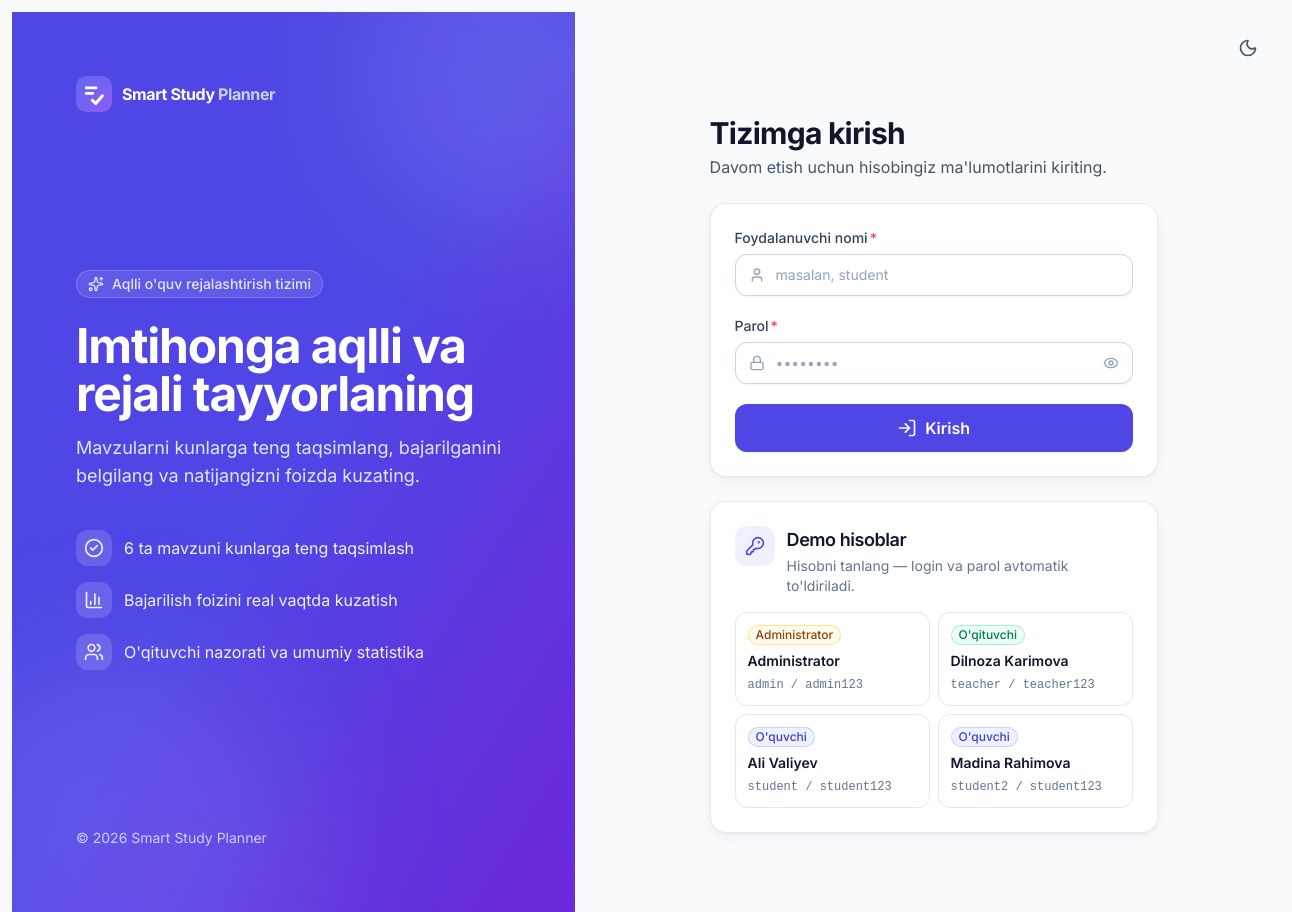
Test: LoginPage › logs in as student, stores the token and redirects to /
Step 1. Type "student" into the field labelled "Foydalanuvchi nomi*" → (934, 275), box [735,254,1133,296]
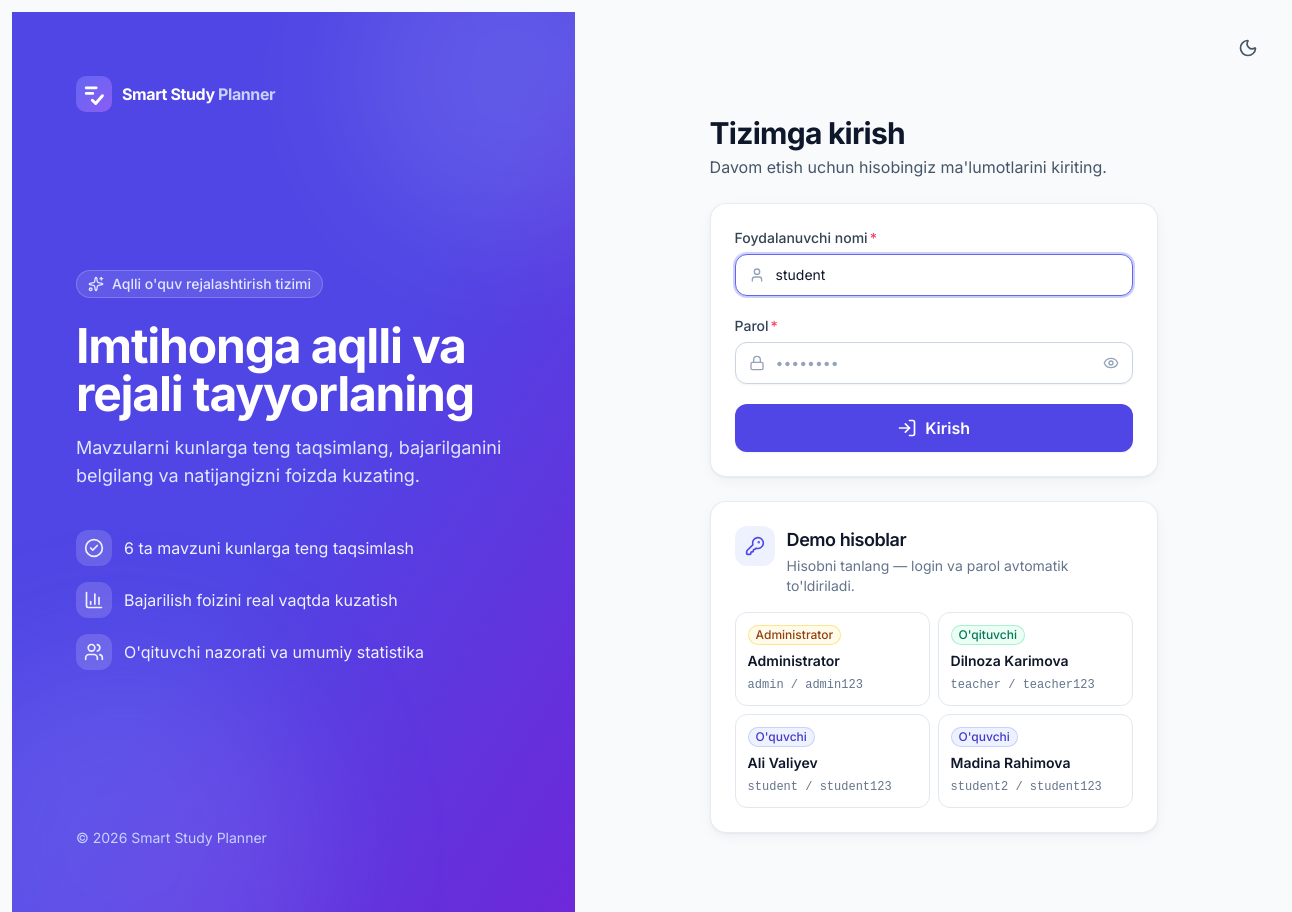
Step 2. Type "secret123" into the password field labelled "Parol*" → (934, 363), box [735,342,1133,384]
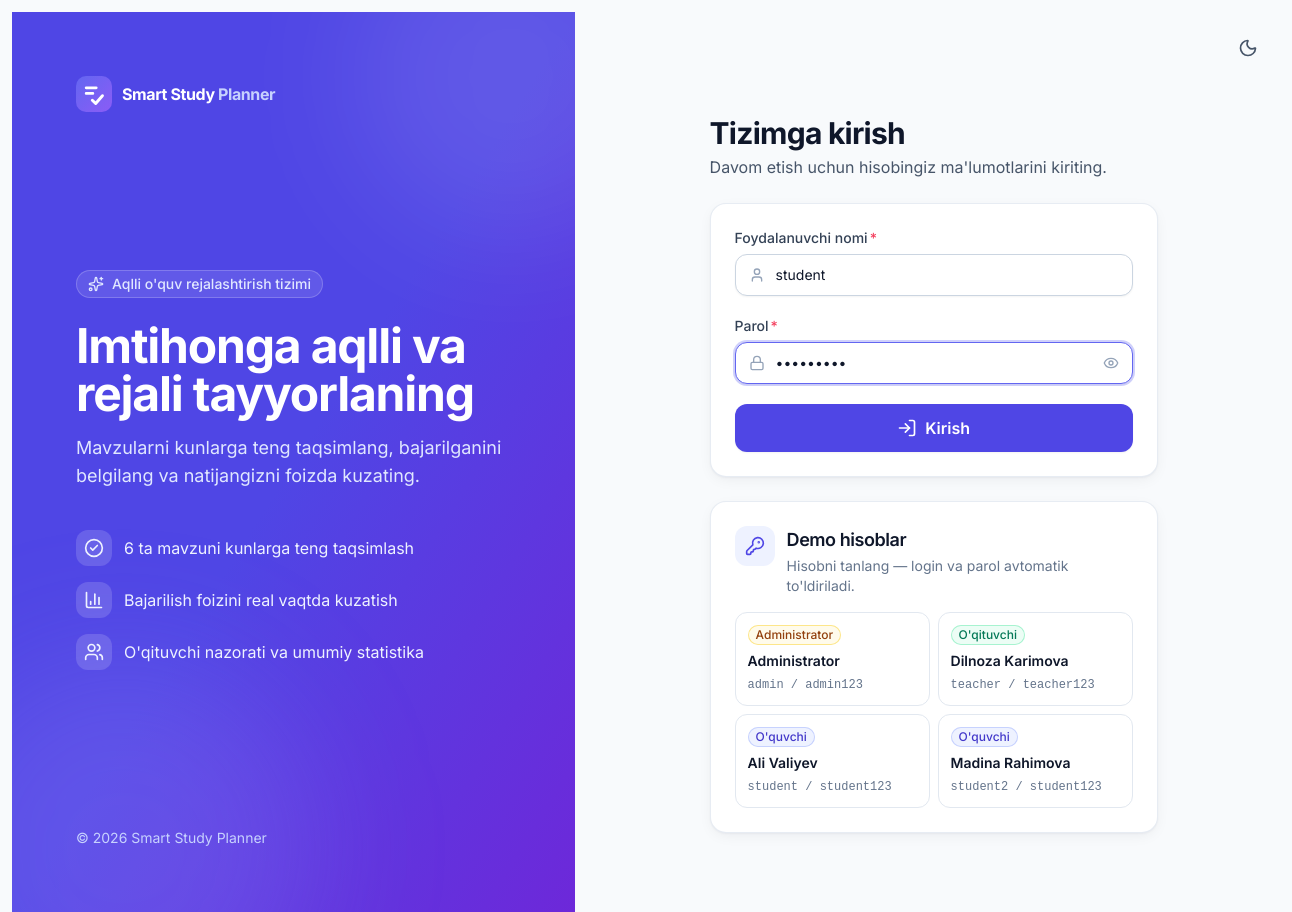
Step 3. Click the button "Kirish" → (934, 428), box [735,404,1133,452]
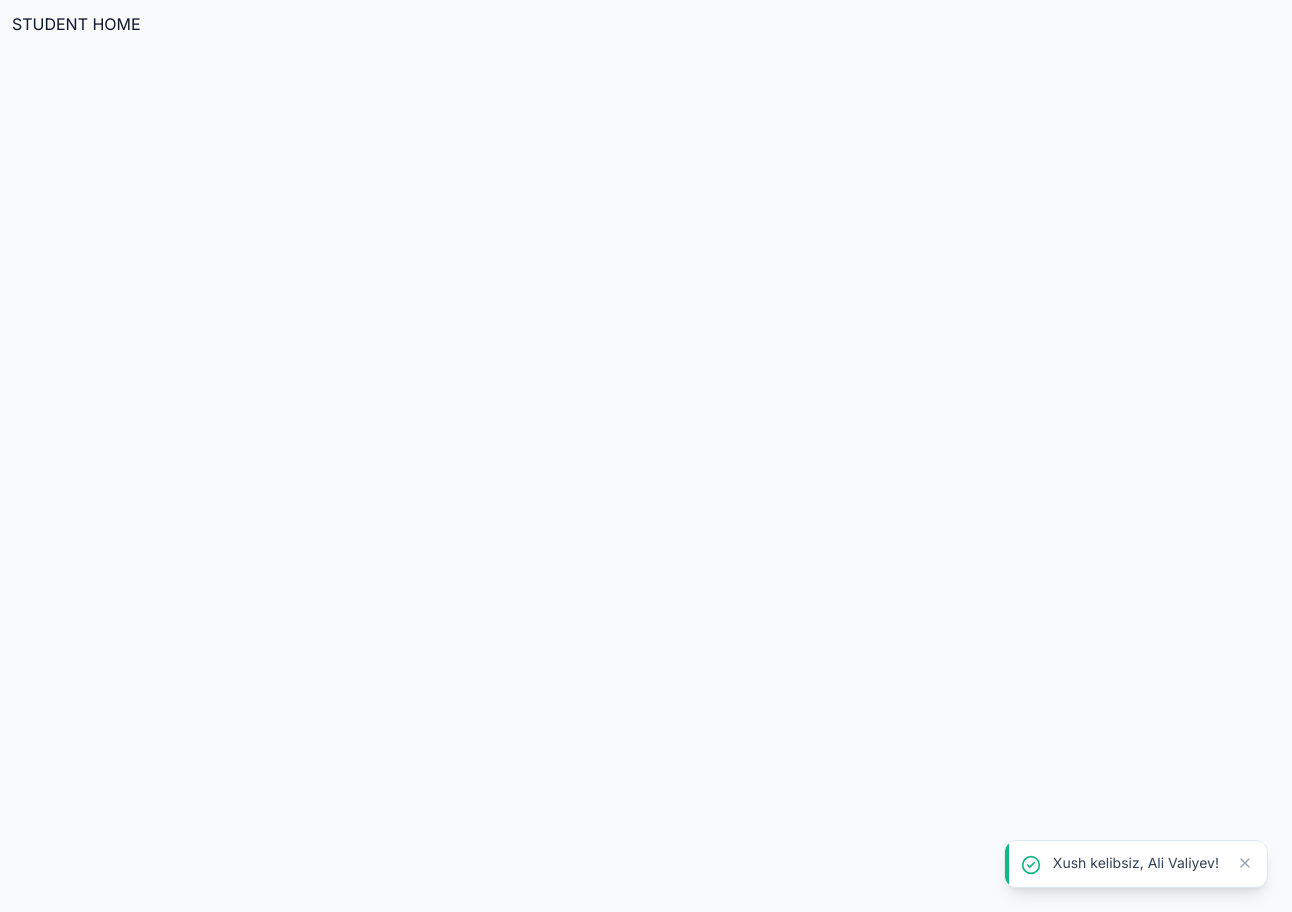
Result: the text "STUDENT HOME" is shown at [12,14,141,34]
